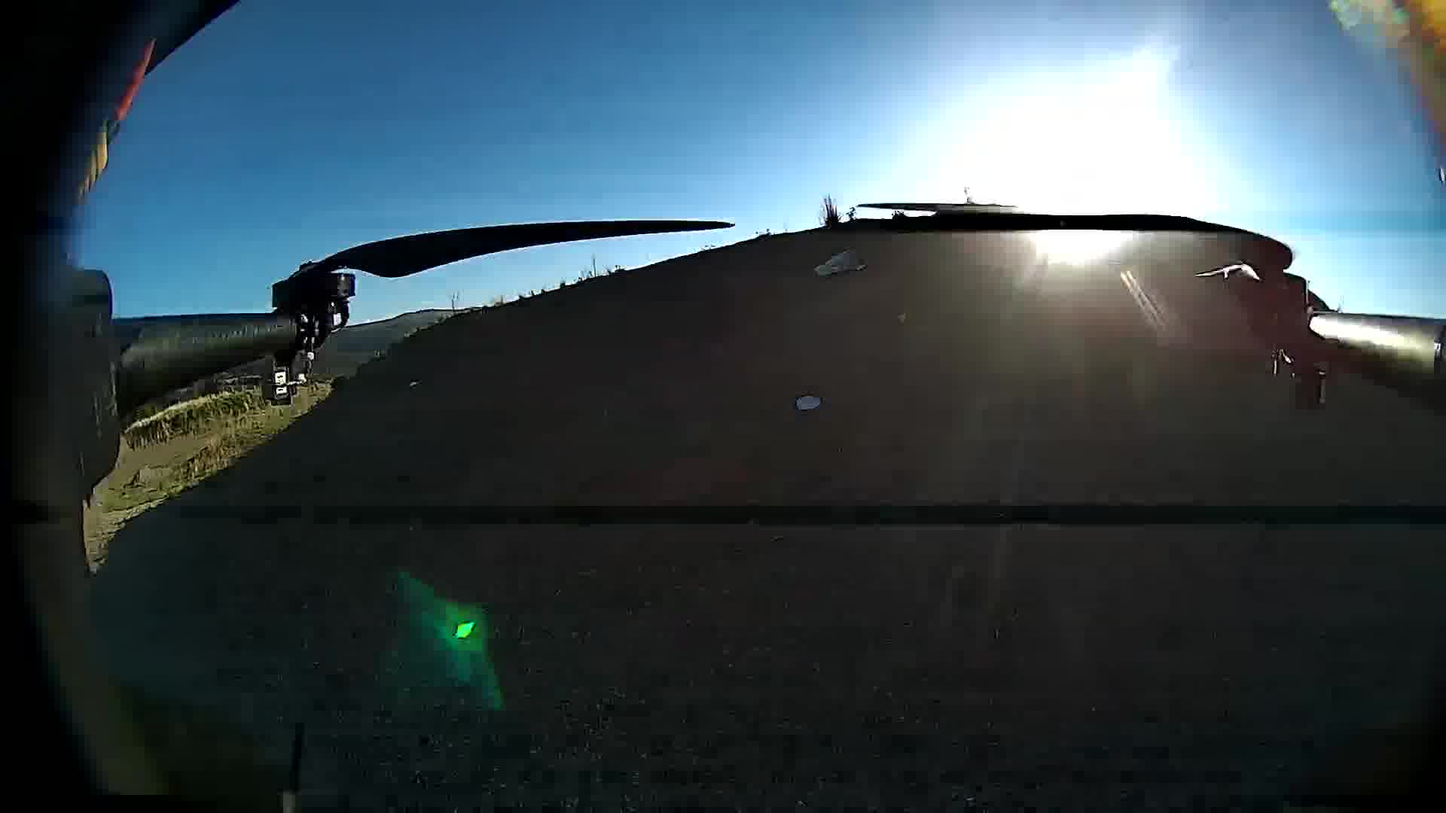Target: (793, 393, 823, 413)
